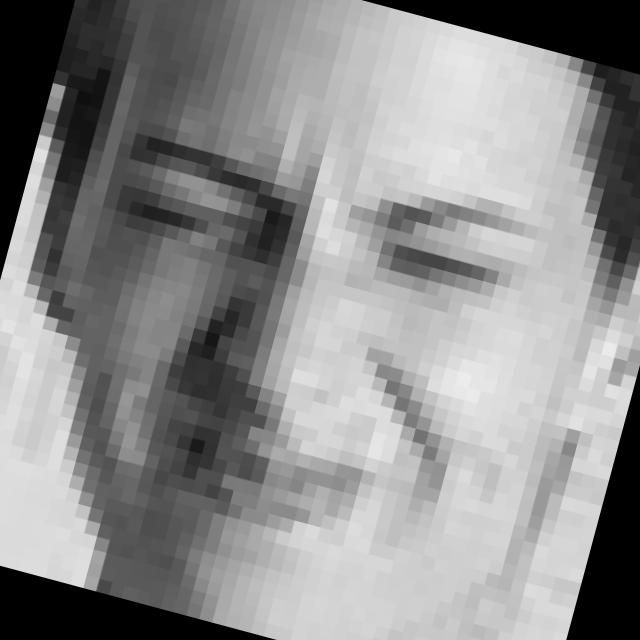disgust: (29, 104, 552, 585)
